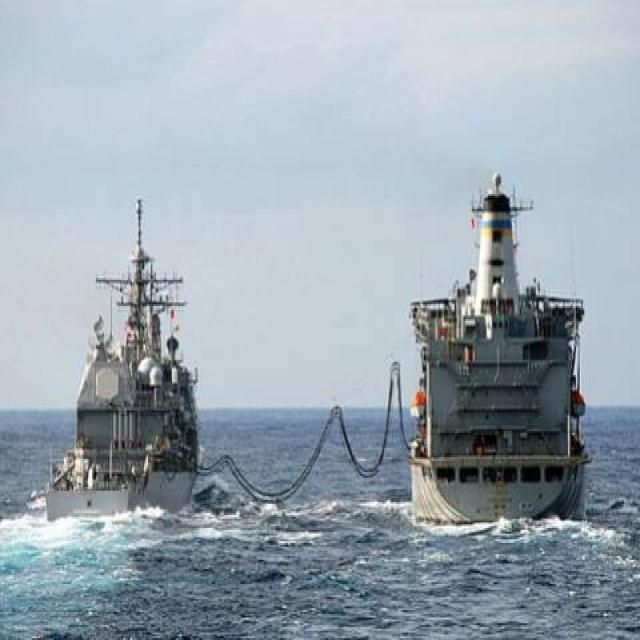navalvessels: (358, 176, 608, 536), (51, 229, 242, 538)
